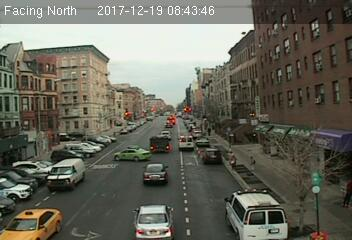car: (133, 204, 175, 240), (140, 162, 169, 185), (201, 147, 222, 166)
police: (223, 187, 292, 240)
truck: (45, 158, 86, 192), (148, 136, 171, 153), (177, 135, 196, 151)
